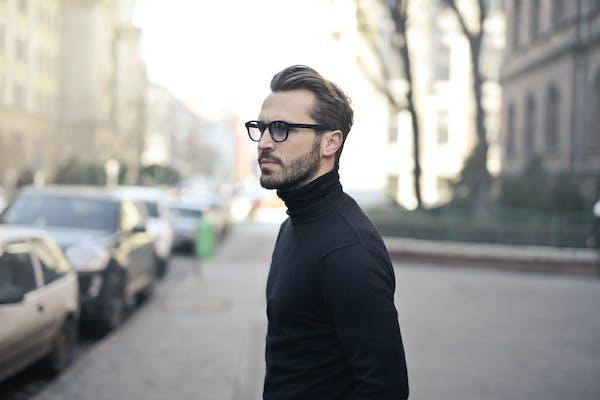eyeglasses: (241, 114, 299, 145)
